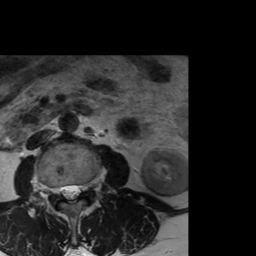CCS_normal: (68, 179, 75, 207)
LFS_stenosis: (82, 177, 90, 197)
LLS_normal: (75, 179, 82, 202)
RFS_stenosis: (52, 179, 60, 204)
RLS_normal: (61, 180, 68, 202)
